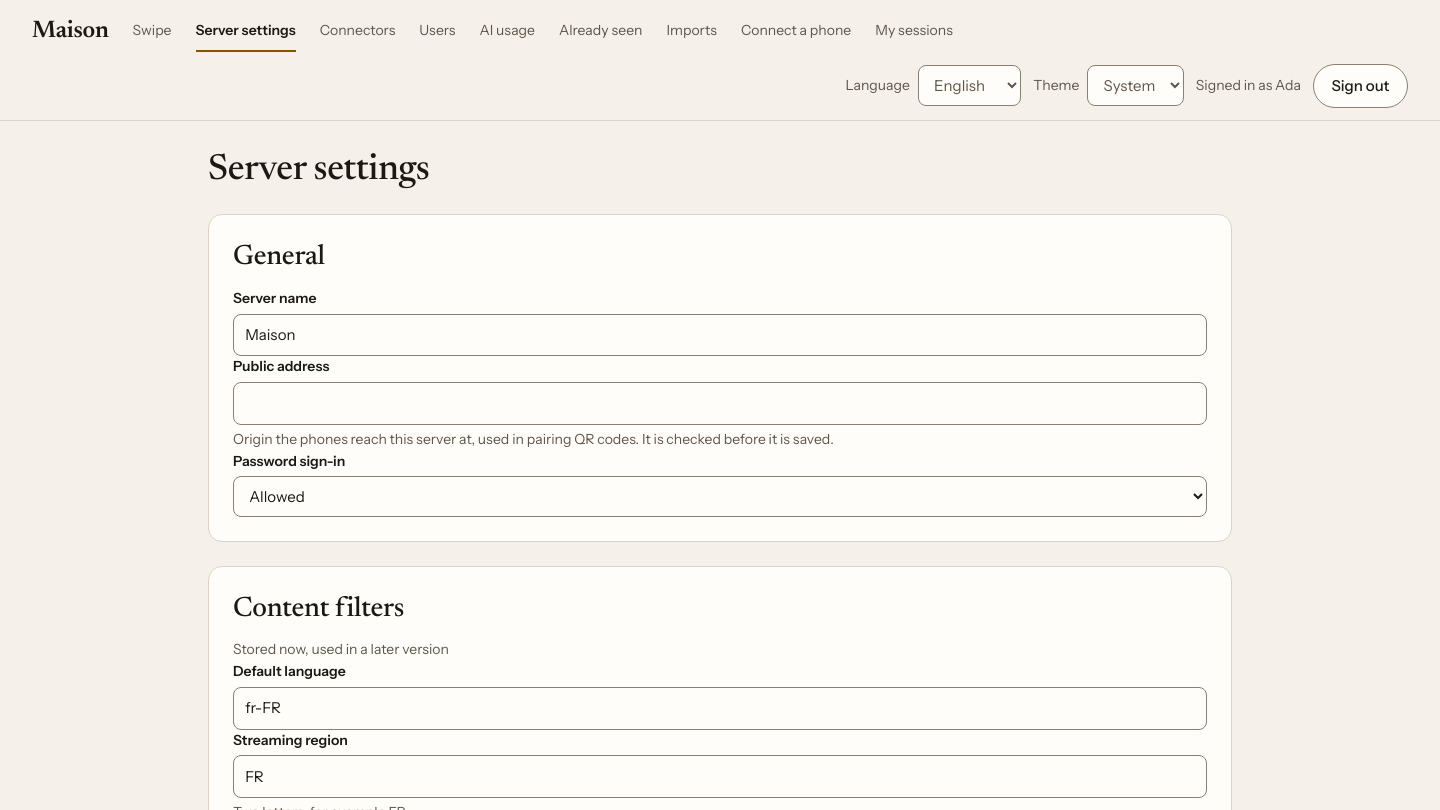
Test case: the server settings › asks for a re-authentication when the server demands one, then saves
Type "https://tindarr.example.com" into the field labelled "Public address" at (720, 404), box [233,382,1207,425]
(page scrolled)
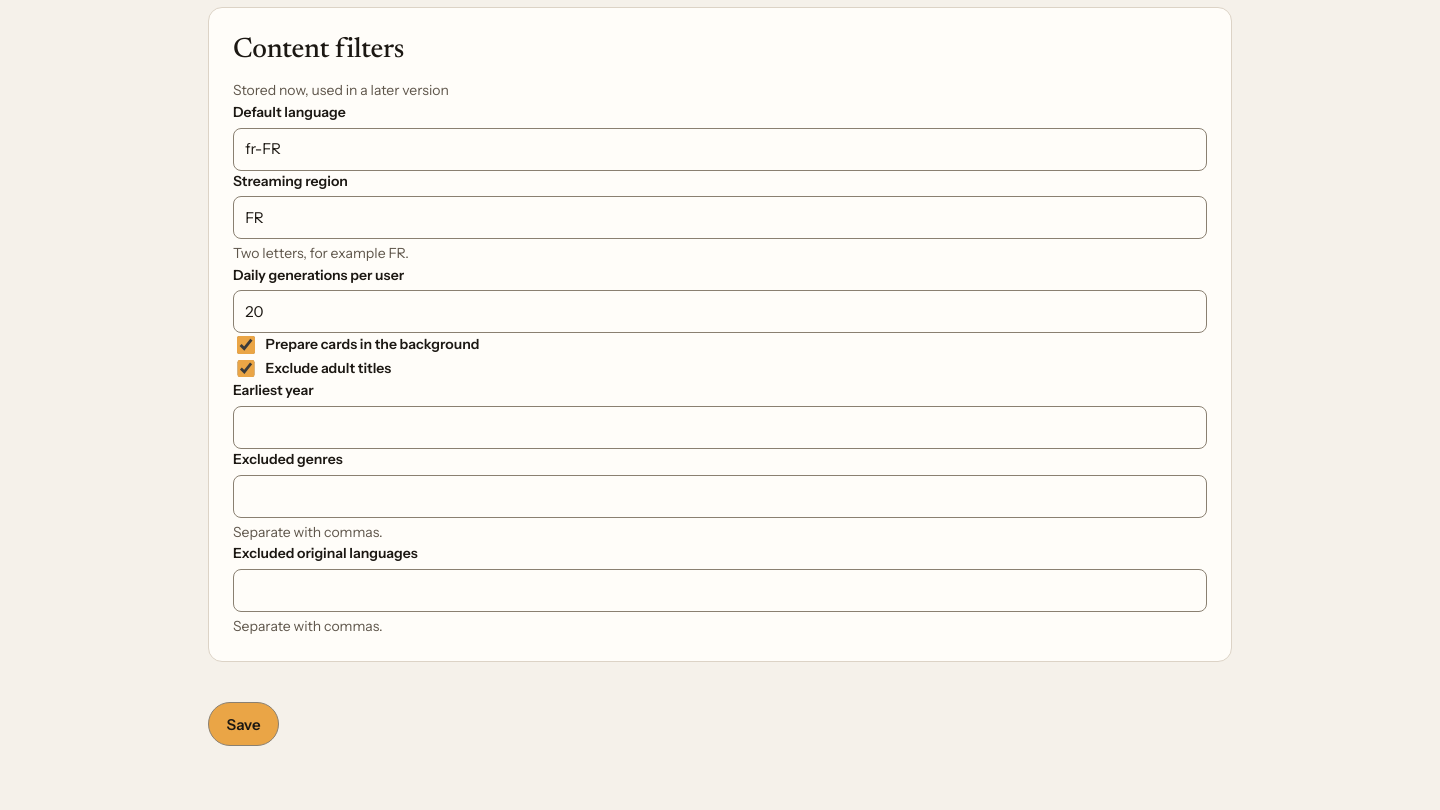
Click the button "Save" at (244, 724), box [208,702,279,746]
(page scrolled)
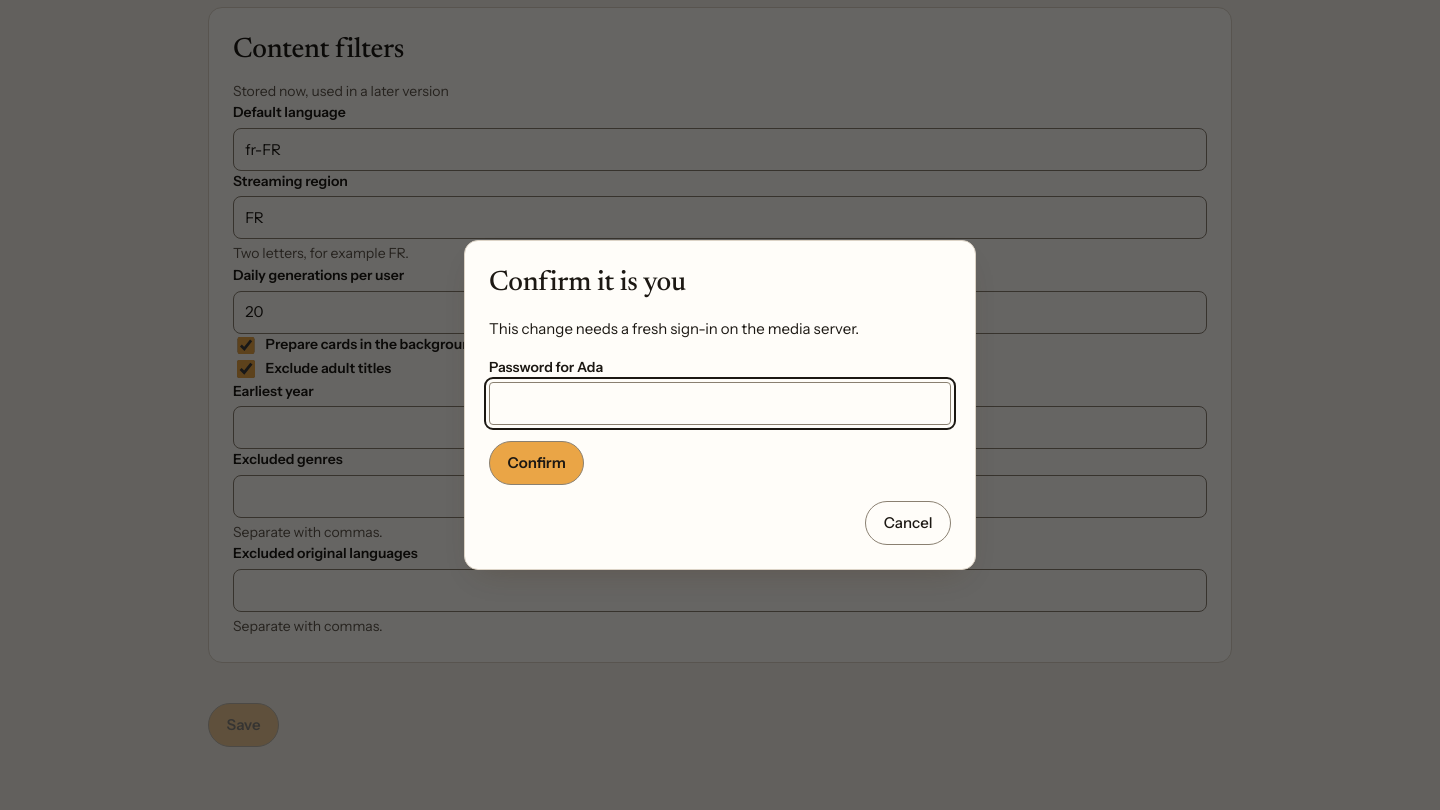
Type "secret" into the password field labelled "Password for Ada" at (720, 404), box [489,382,951,425]
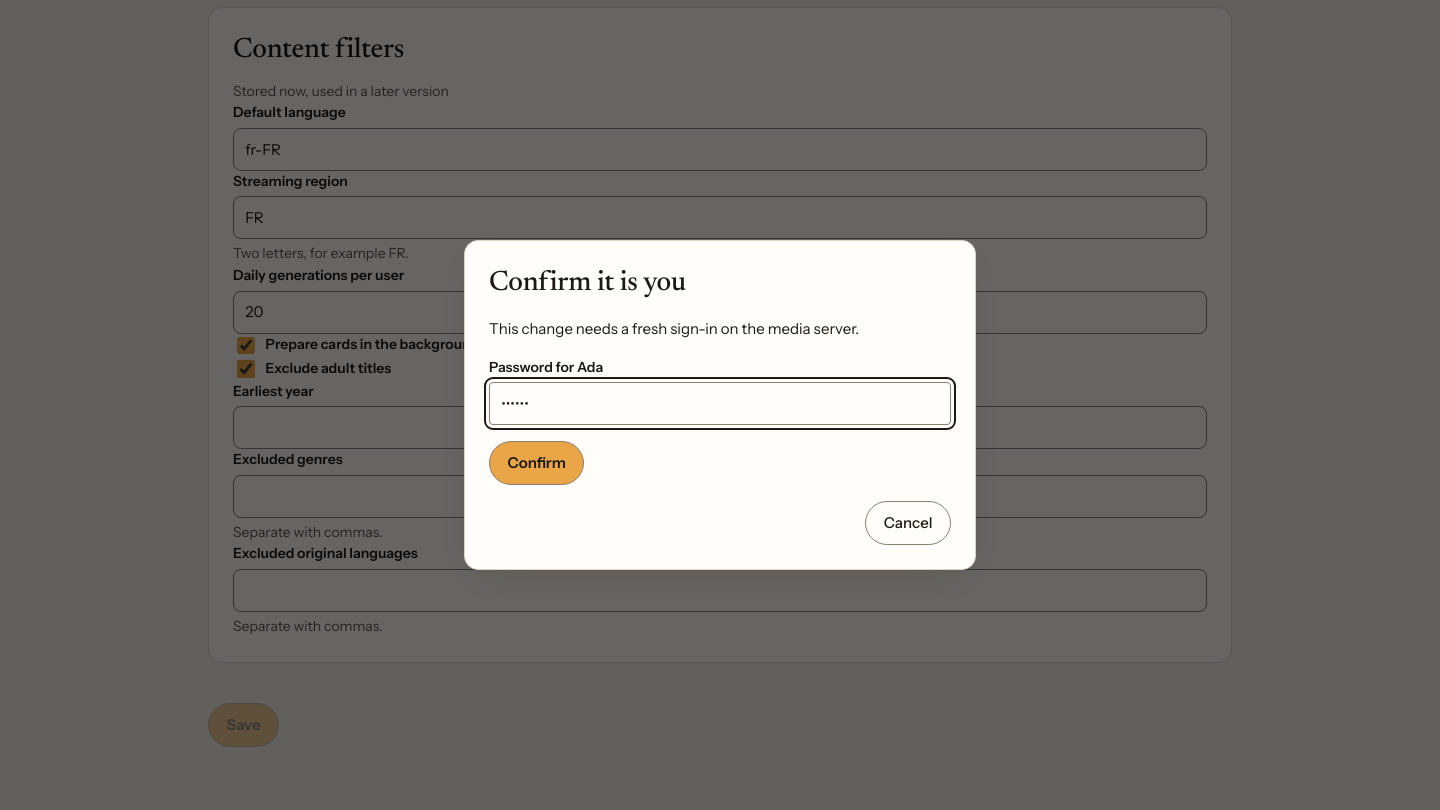
Click the button "Confirm" at (537, 463), box [489,441,584,485]
(page scrolled)
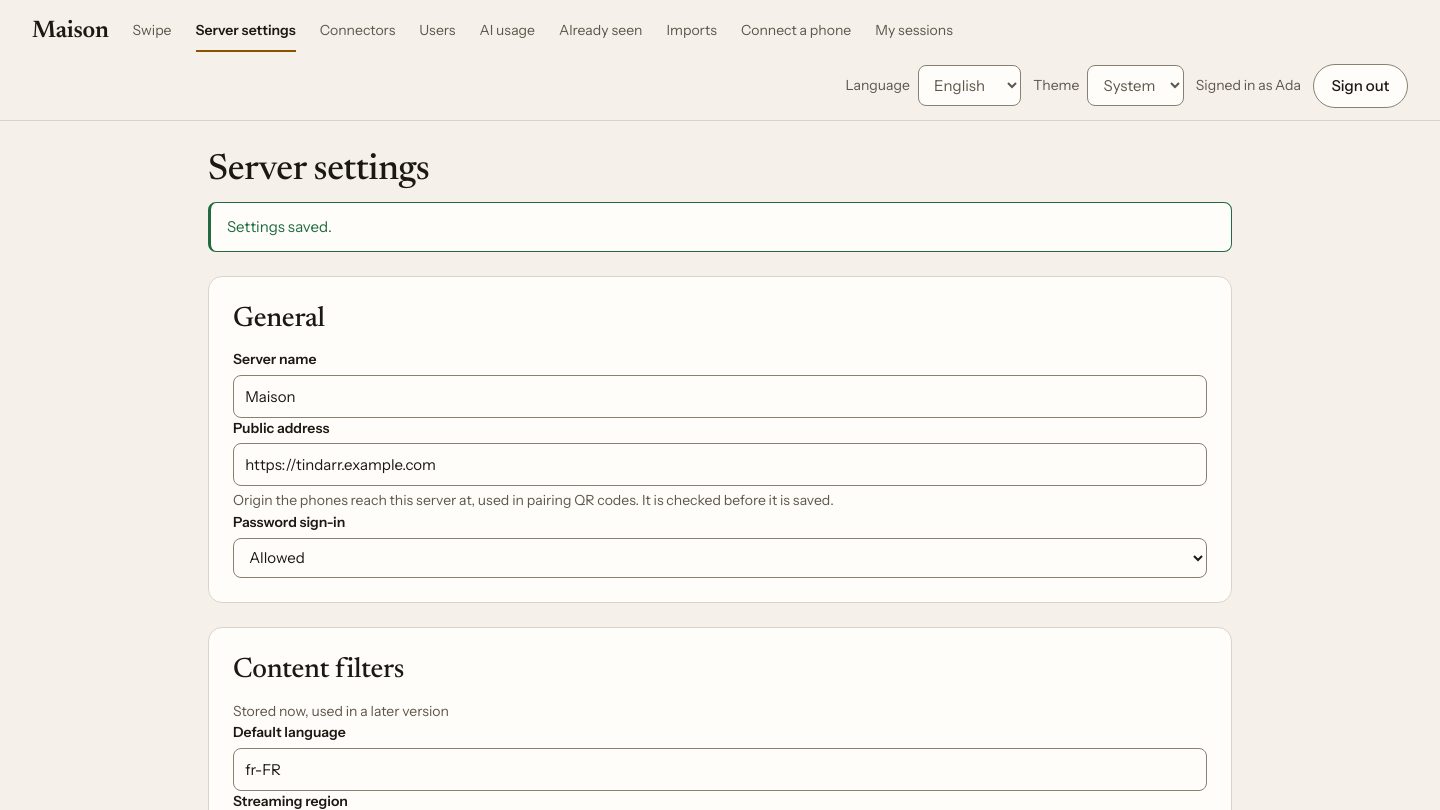
Expected: the text "Settings saved." is shown, [208,202,1232,252]
